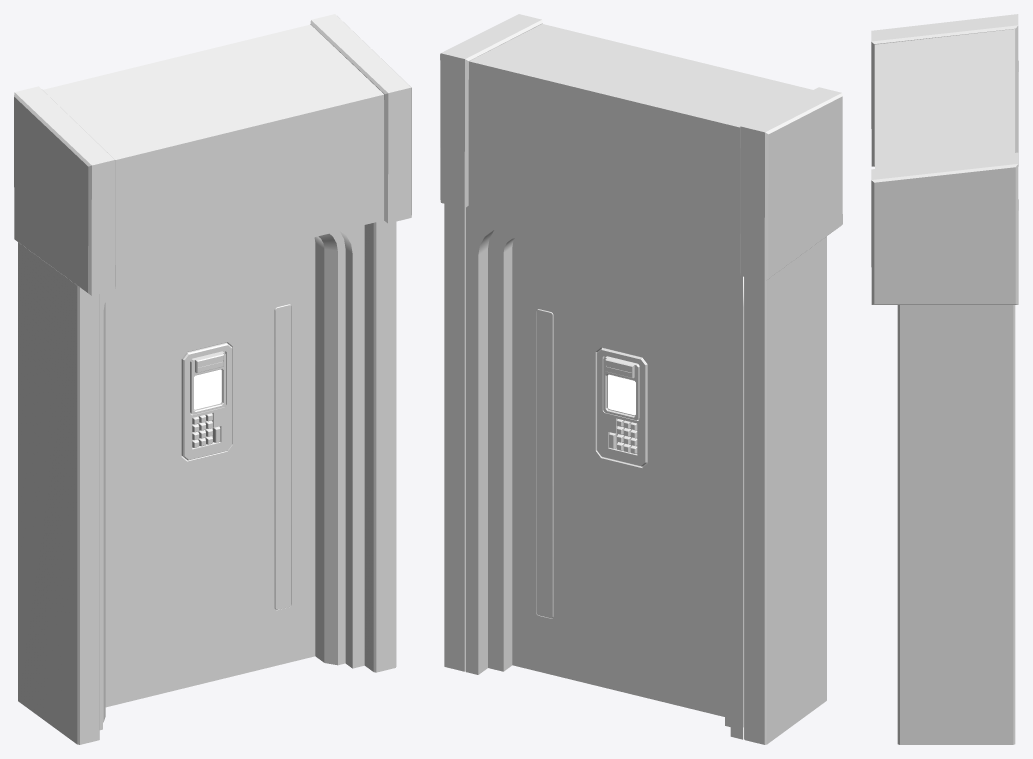
File: KB3D_FTW_PropSingleDoor_C_grp.glb
The picture shows the model from 3 angles, left to right: view 1: azimuth 30°, elevation 25°; view 2: azimuth 150°, elevation 25°; view 3: azimuth 270°, elevation 25°; orthographic projection. The views are drawn at different scales.
Visible parts, largest first — view 1: KB3D_FTW_PropSingleDoor_C_Frame, KB3D_FTW_PropSingleDoor_C_Door; view 2: KB3D_FTW_PropSingleDoor_C_Frame, KB3D_FTW_PropSingleDoor_C_Door; view 3: KB3D_FTW_PropSingleDoor_C_Frame.
Boxes of the visible parts, <box> form: KB3D_FTW_PropSingleDoor_C_Frame: <box>14,14,411,744</box>; KB3D_FTW_PropSingleDoor_C_Door: <box>105,237,315,707</box>; KB3D_FTW_PropSingleDoor_C_Frame: <box>440,14,842,744</box>; KB3D_FTW_PropSingleDoor_C_Door: <box>512,237,724,716</box>; KB3D_FTW_PropSingleDoor_C_Frame: <box>871,14,1018,744</box>.
Size of the model in its own units: 1.73 by 3.1 by 0.7115.
Materials: 10 (1 with a texture image).
